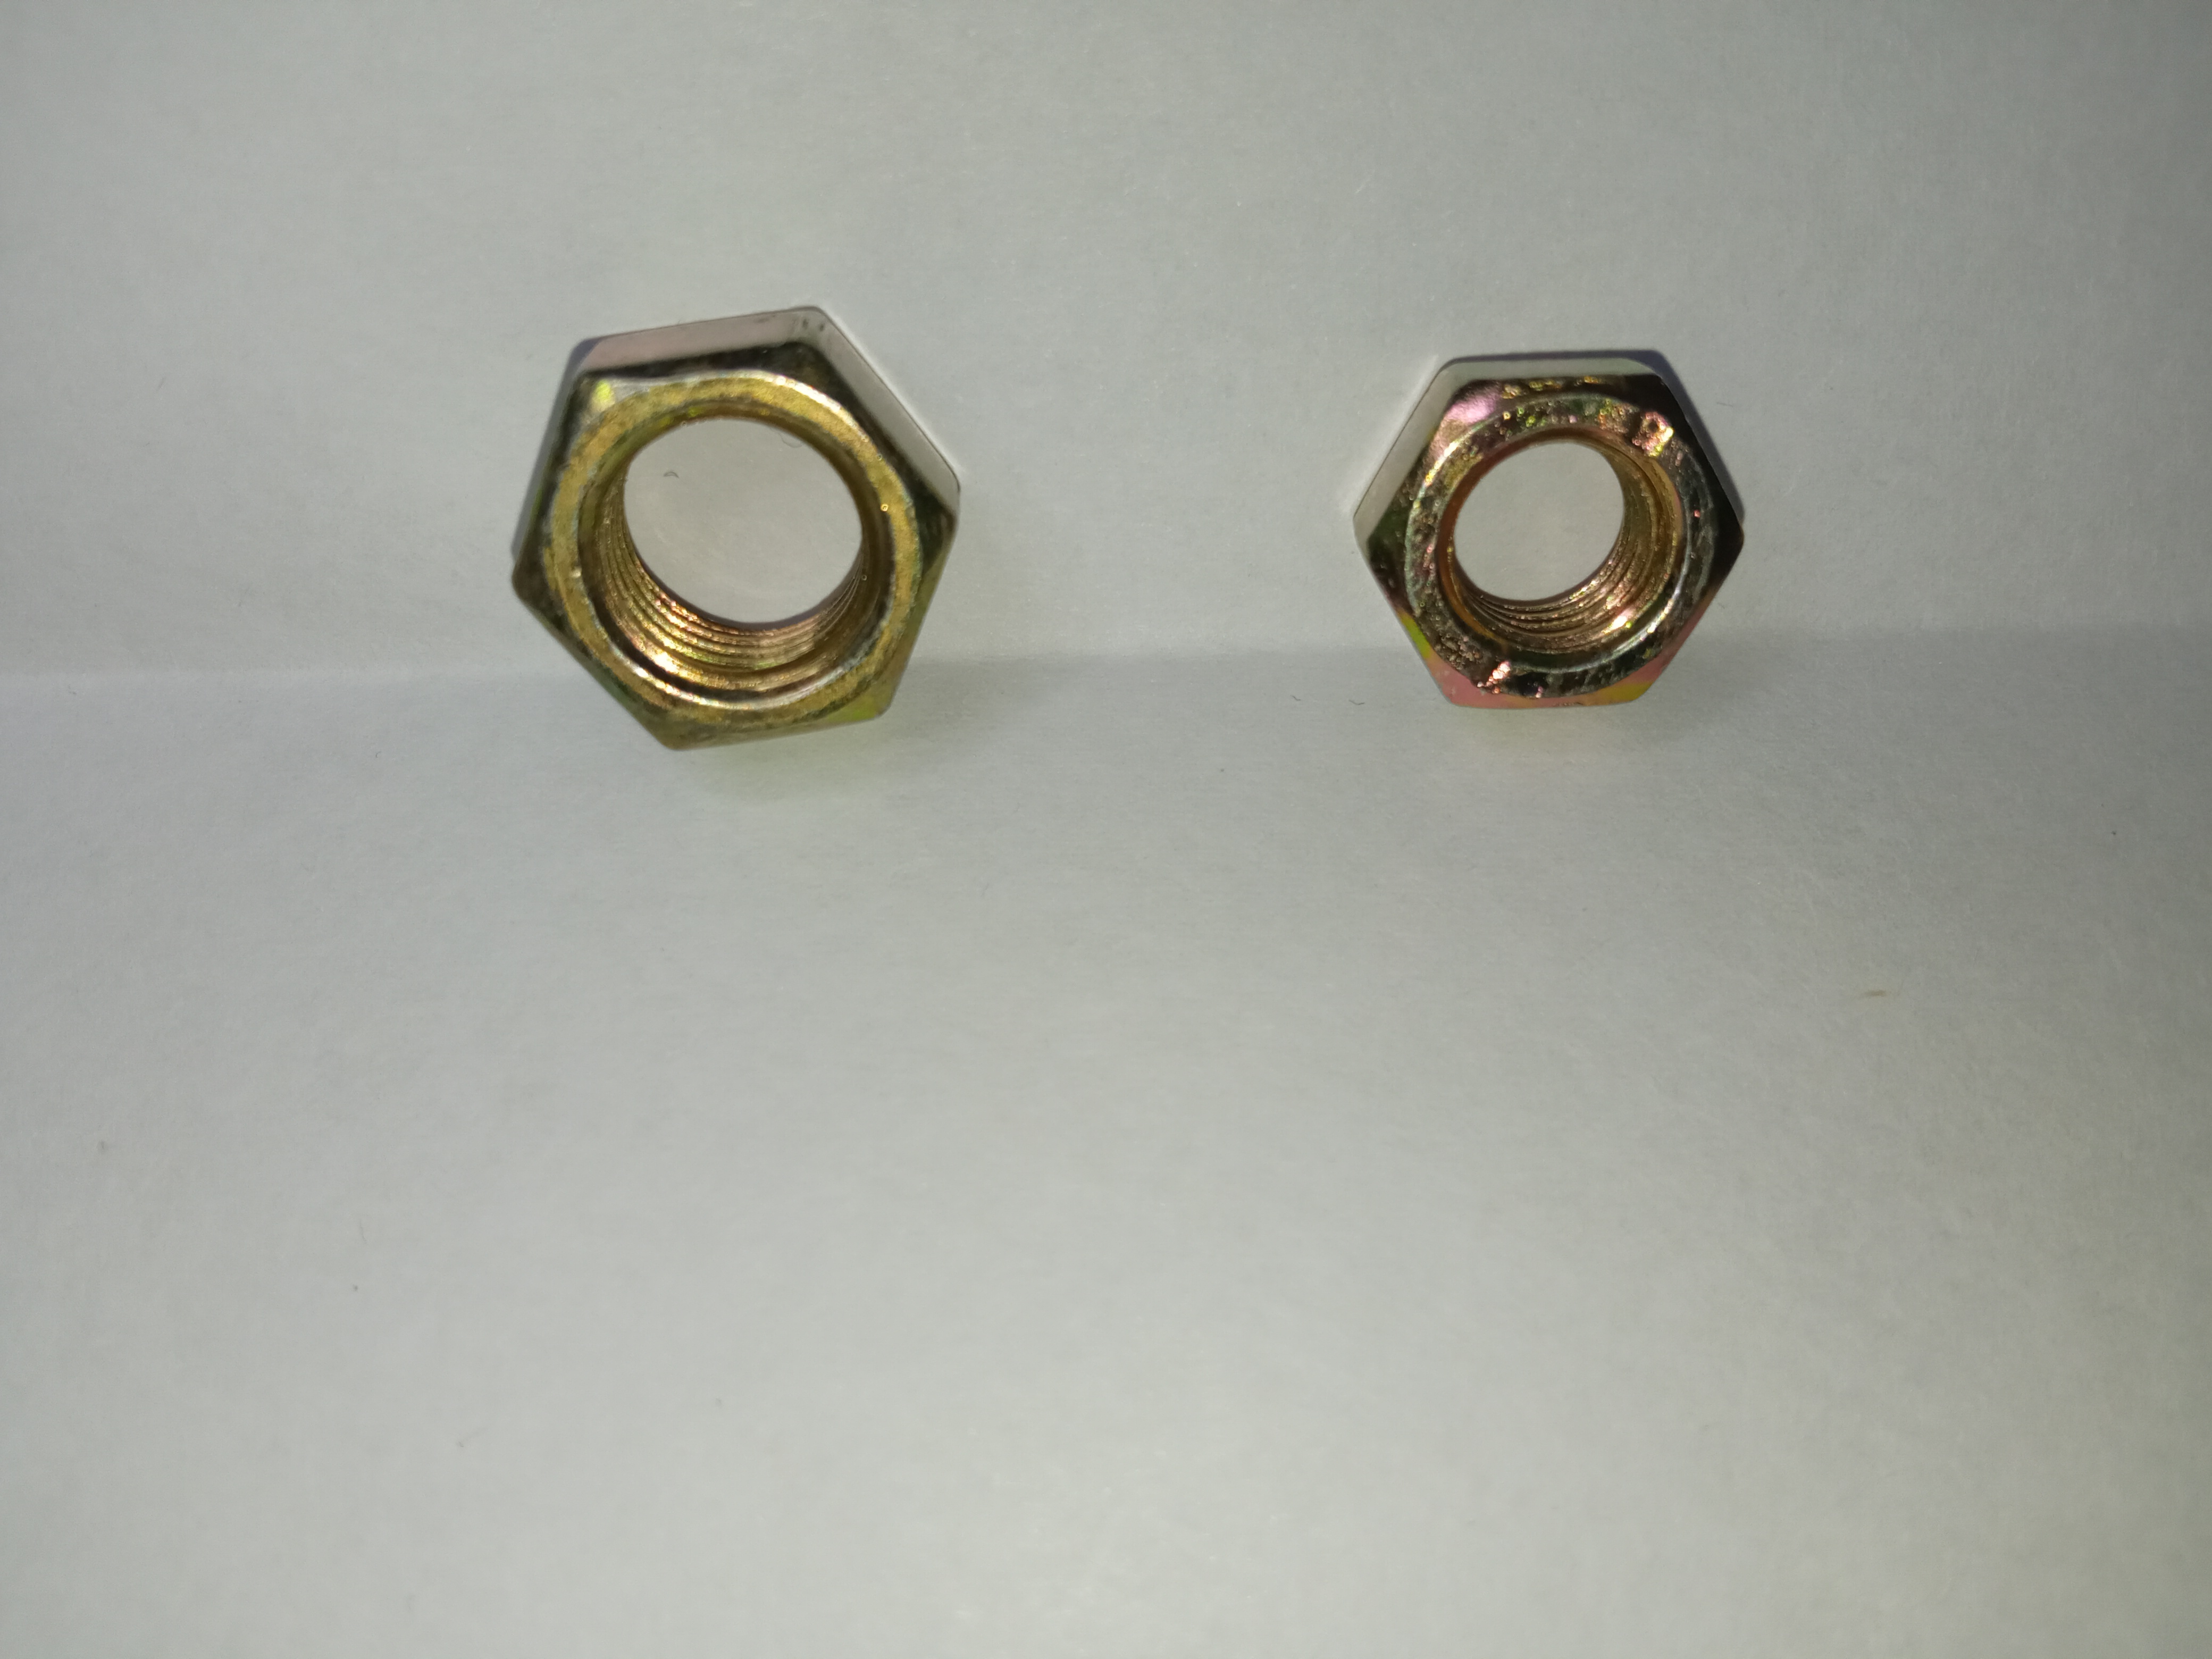m10: (519, 331, 930, 739)
m8: (1350, 357, 1740, 688)
